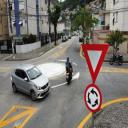Rotatoria: (84, 84, 103, 114)
preferencia: (81, 42, 110, 84)
